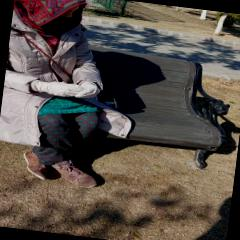gloved: (34, 79, 82, 99), (78, 82, 98, 100)
